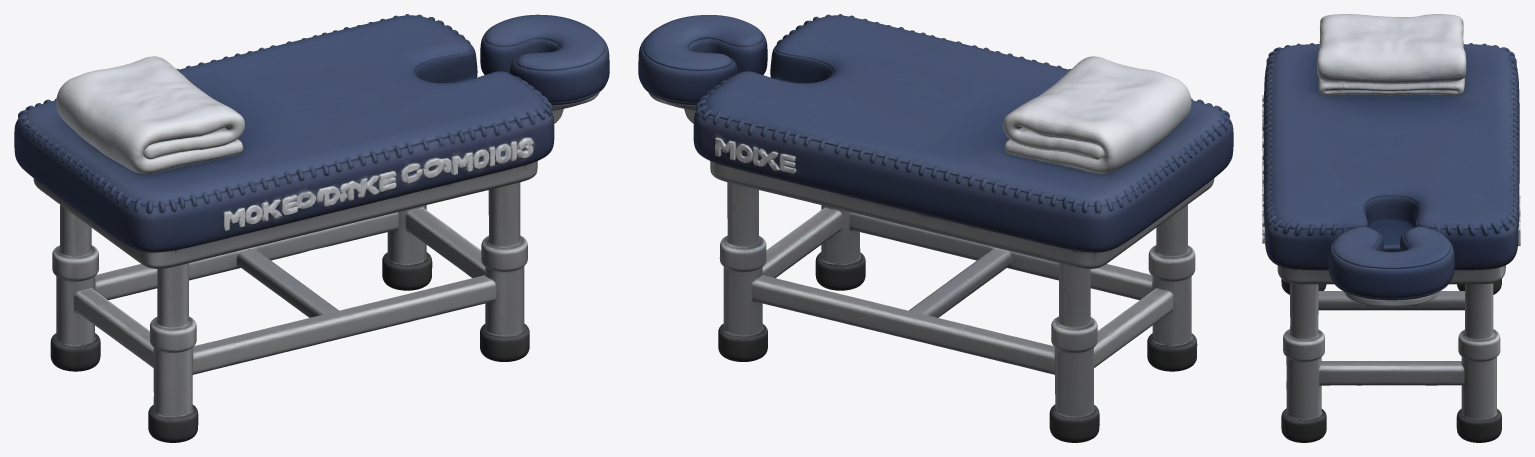
Rendered from massage-table.glb.
3 renders of one model, left to right at view 1: azimuth 30°, elevation 25°; view 2: azimuth 150°, elevation 25°; view 3: azimuth 270°, elevation 25°, orthographic. The views are drawn at different scales.
Parts seen in each view (by area): view 1: tripo_node_93d5fc8e-def8-4343-aa0d-9bf61827bb04; view 2: tripo_node_93d5fc8e-def8-4343-aa0d-9bf61827bb04; view 3: tripo_node_93d5fc8e-def8-4343-aa0d-9bf61827bb04.
Boxes of the visible parts, <box> form: tripo_node_93d5fc8e-def8-4343-aa0d-9bf61827bb04: <box>14,14,609,442</box>; tripo_node_93d5fc8e-def8-4343-aa0d-9bf61827bb04: <box>638,14,1233,442</box>; tripo_node_93d5fc8e-def8-4343-aa0d-9bf61827bb04: <box>1262,14,1520,442</box>.
Size of the model in its own units: 0.9796 by 0.5338 by 0.4621.
Materials: 1 (1 with a texture image).
